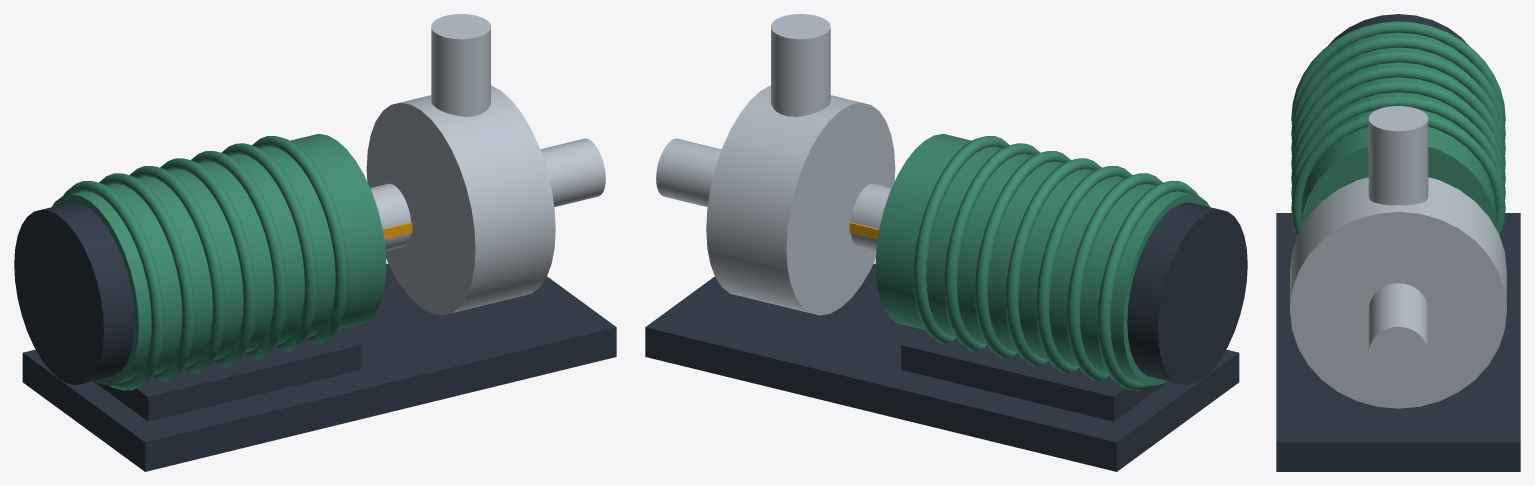
Rendered from pump.glb.
3 renders of one model, left to right at view 1: azimuth 30°, elevation 25°; view 2: azimuth 150°, elevation 25°; view 3: azimuth 270°, elevation 25°, orthographic.
Parts seen in each view (by area): view 1: part_motor (×9), frame (×2), part_pump (×3), part_coupling; view 2: part_motor (×9), frame (×2), part_pump (×3), part_coupling; view 3: part_pump (×3), part_motor (×9), frame.
Boxes of the visible parts, x1,y1,x2,y2 form: part_motor (×9): (14,133,386,390); frame (×2): (22,263,616,471); part_pump (×3): (366,14,605,315); part_coupling: (370,183,411,250); part_motor (×9): (875,133,1247,390); frame (×2): (645,263,1239,471); part_pump (×3): (656,14,895,315); part_coupling: (850,183,891,250); part_pump (×3): (1290,106,1506,408); part_motor (×9): (1291,14,1505,237); frame: (1276,213,1520,471).
Bounding box in the file's own units: 2.26 × 1.25 × 0.9.
